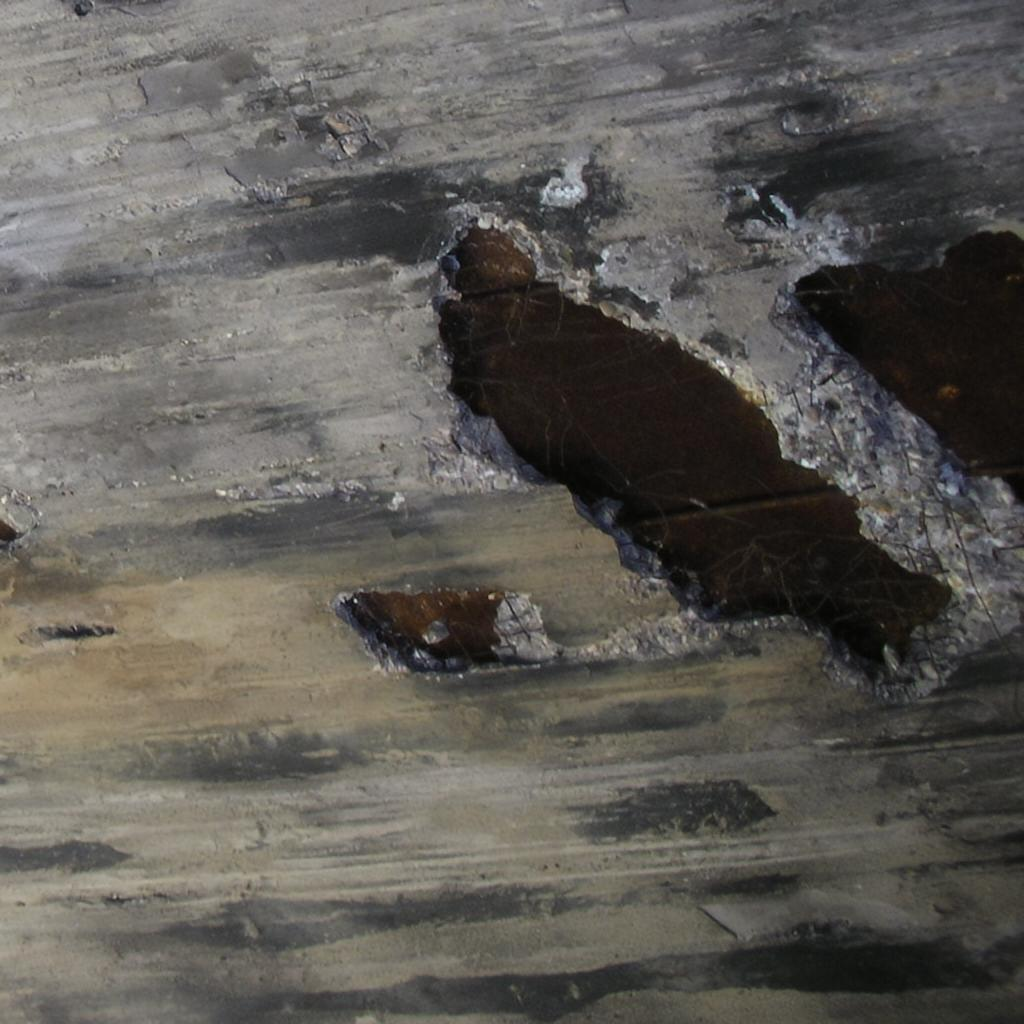exposed_rebar: (440, 230, 950, 657), (796, 232, 1024, 499), (336, 588, 562, 672)
